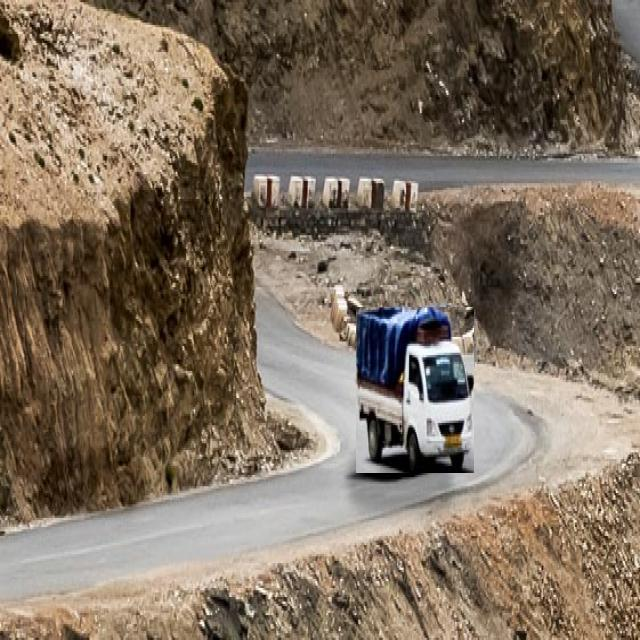truck: (356, 308, 474, 473)
